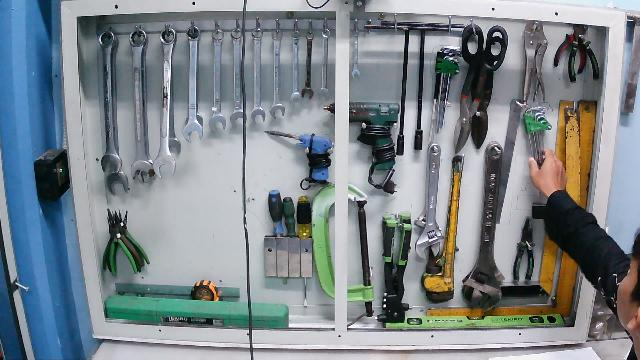kunci_l_bintang: (521, 104, 555, 188)
